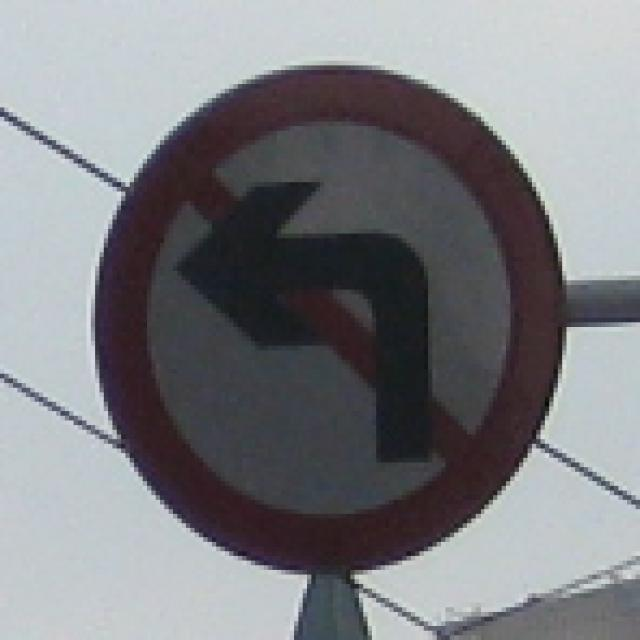Not that Direction: (91, 61, 546, 571)
